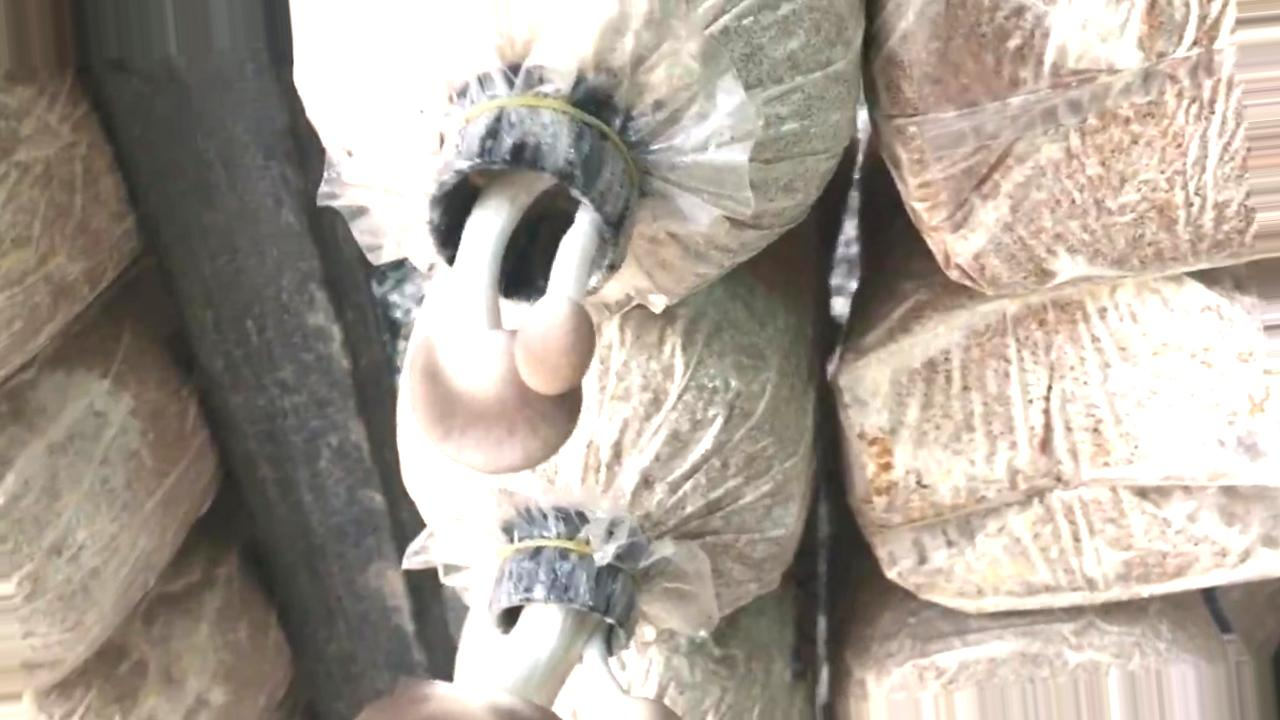nam: (409, 109, 642, 471), (373, 535, 678, 720)
